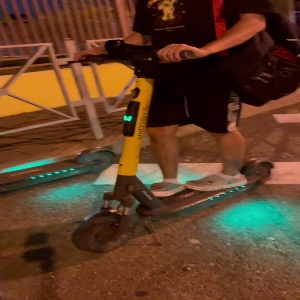human on a scooter: (57, 1, 300, 253)
